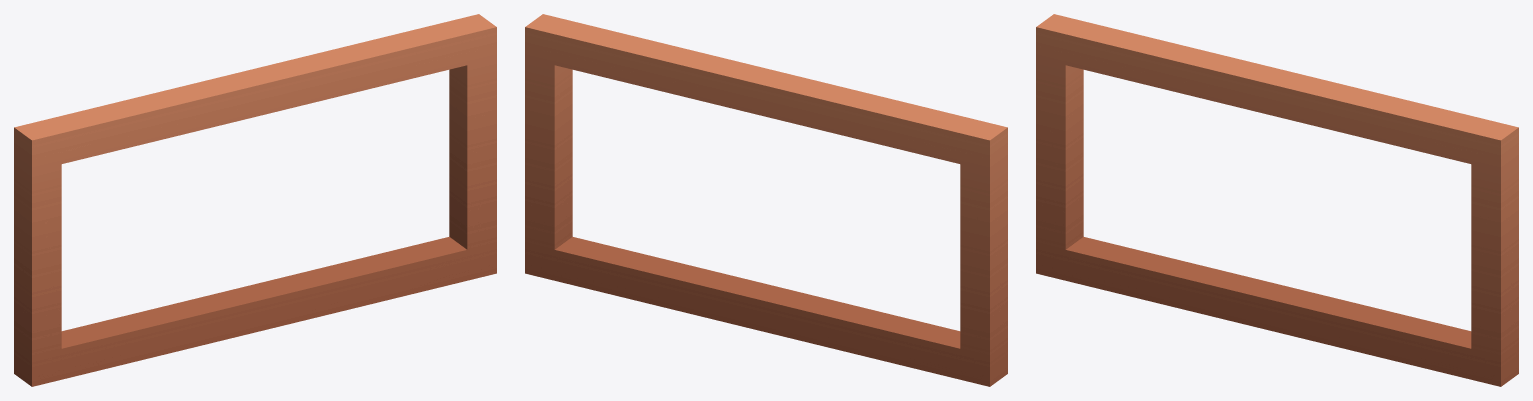
File: window-brown-wide.glb
3 renders of one model, left to right at view 1: azimuth 30°, elevation 25°; view 2: azimuth 150°, elevation 25°; view 3: azimuth 330°, elevation 25°, orthographic.
Visible parts, largest first — view 1: window-brown-wide; view 2: window-brown-wide; view 3: window-brown-wide.
Part boxes in pixels (left/top/right/bottom): window-brown-wide: left=14, top=14, right=496, bottom=386; window-brown-wide: left=525, top=14, right=1007, bottom=386; window-brown-wide: left=1036, top=14, right=1518, bottom=386.
Size of the model in its own units: 0.75 by 0.38 by 0.05.
1 material, 1 textured.
